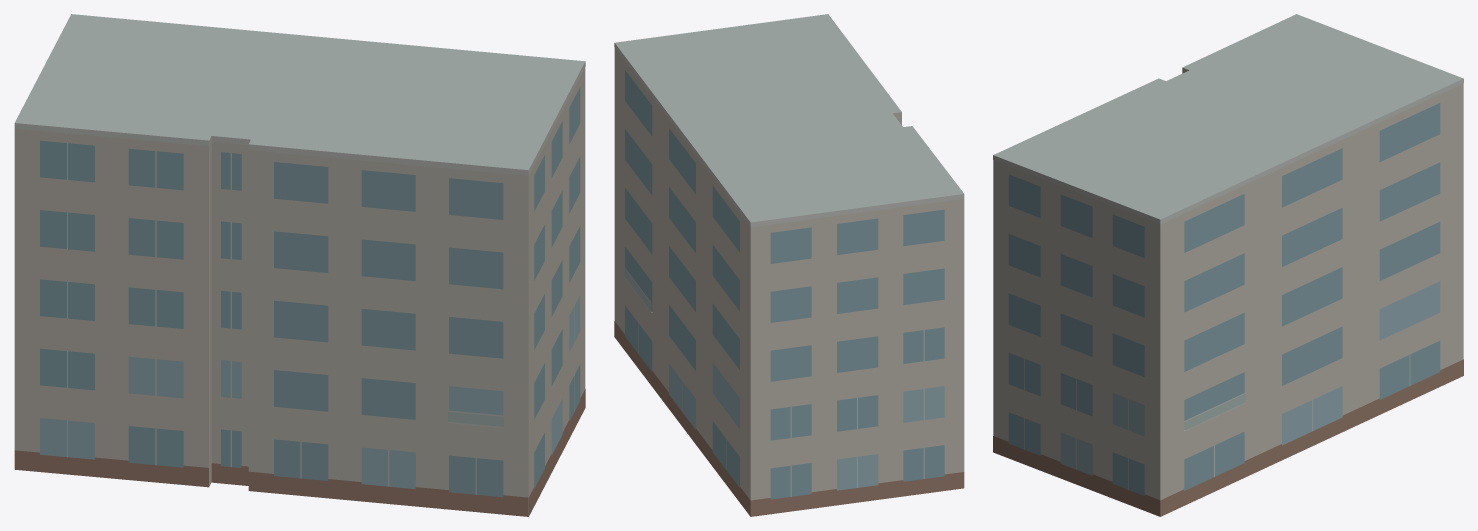
File: survey-upis-32535655.glb
3 views of the same model, side by side, from view 1: azimuth 30°, elevation 25°; view 2: azimuth 150°, elevation 25°; view 3: azimuth 270°, elevation 25° (orthographic). The views are drawn at different scales.
Visible parts, largest first — view 1: survey-upis-32535655.tmp; view 2: survey-upis-32535655.tmp; view 3: survey-upis-32535655.tmp.
Part boxes in pixels (x1,y1,x2,y2): survey-upis-32535655.tmp: (14, 14, 585, 516); survey-upis-32535655.tmp: (614, 14, 964, 516); survey-upis-32535655.tmp: (993, 14, 1463, 516).
Bounding box in the file's own units: 22.41 × 15.1 × 21.67.
